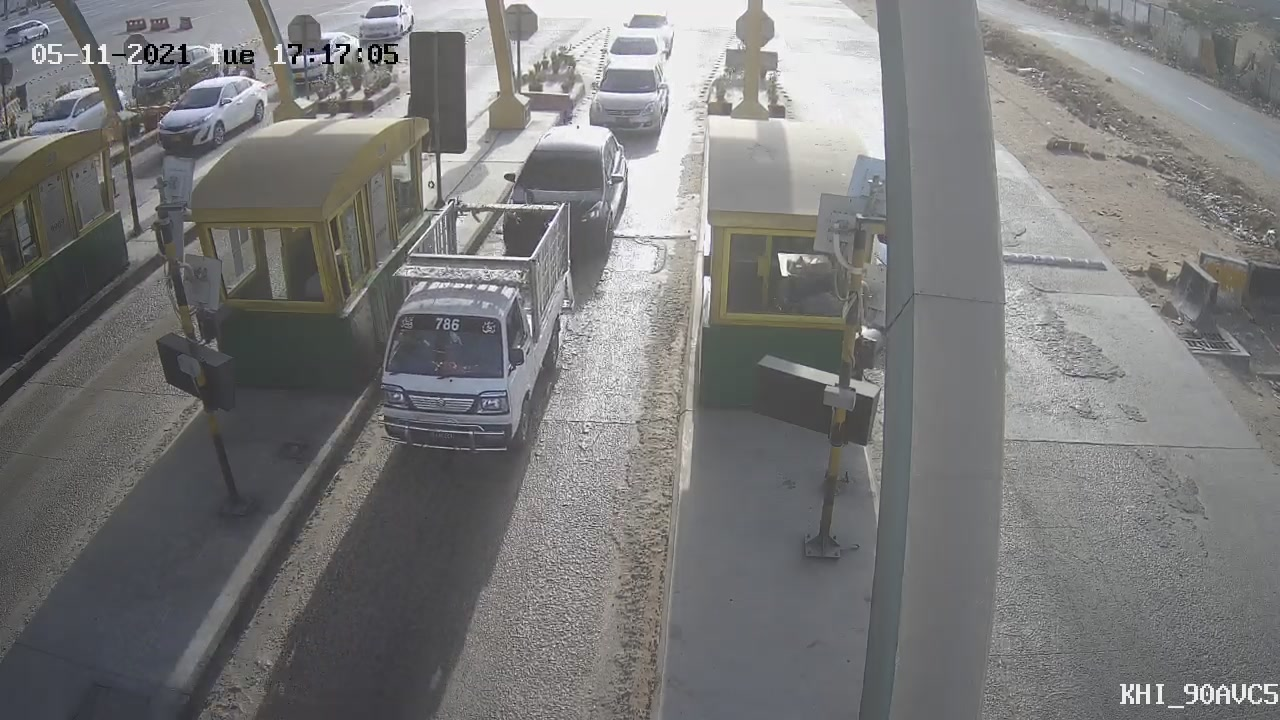F1: (371, 203, 583, 470), (490, 111, 643, 269), (577, 47, 677, 148)
